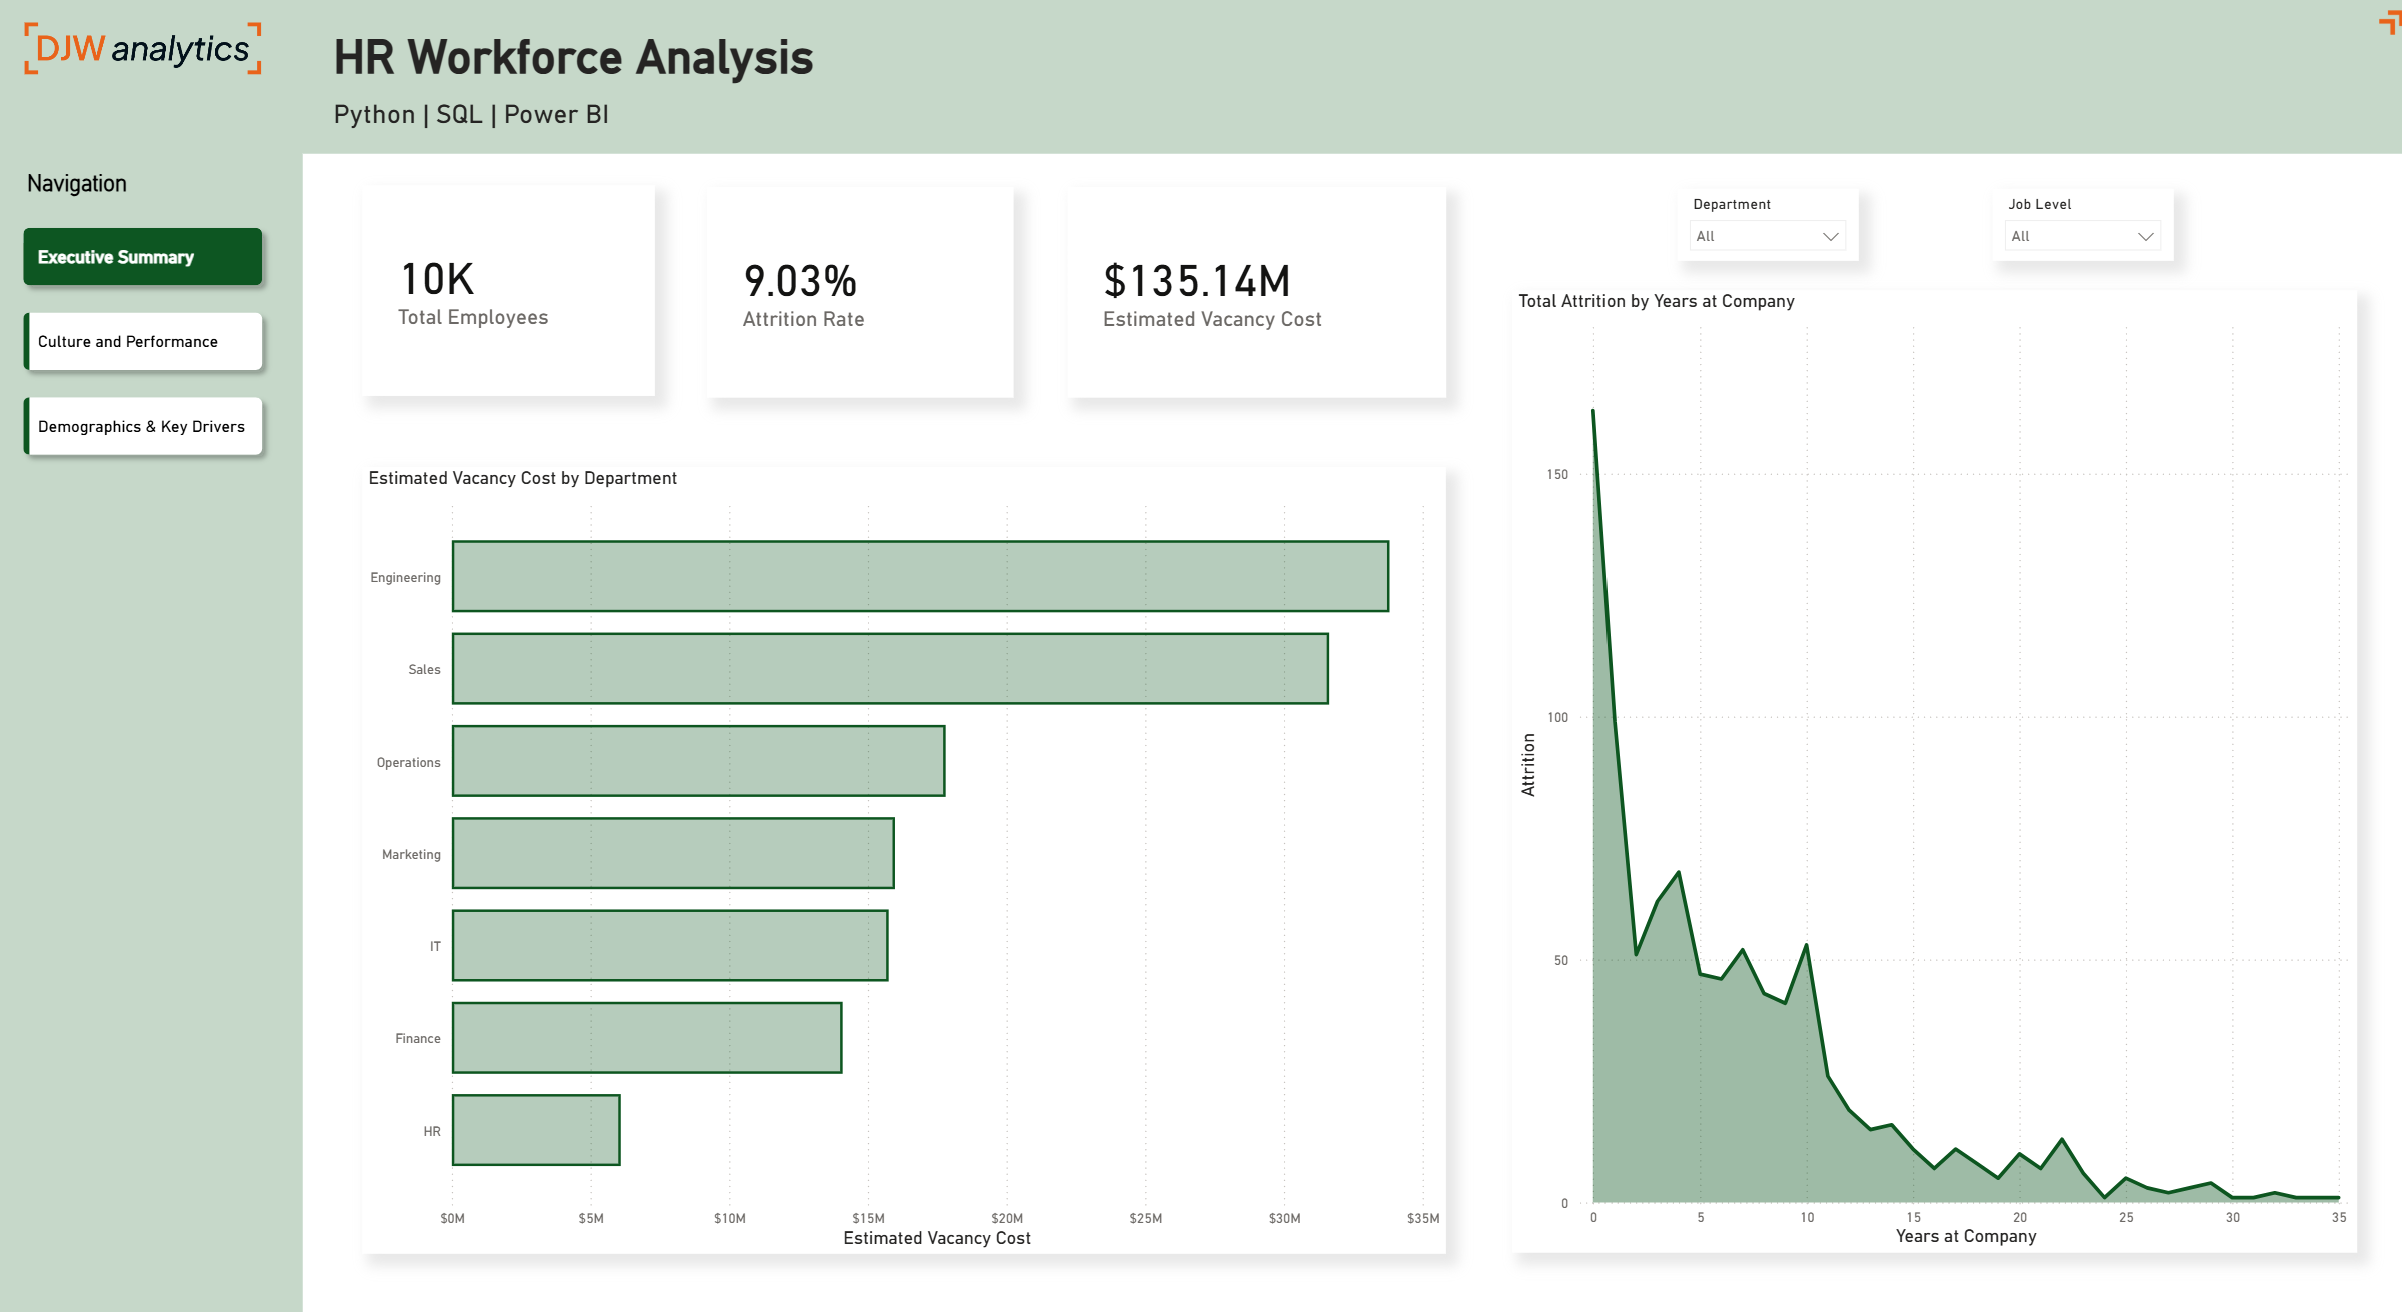

Layout of this report page (visuals, bound fields, positions):
{"tool":"powerbi","page":{"name":"Executive Summary","canvas":[1980,1080],"ordinal":0},"visuals":[{"type":"shape","box":[253.3,126.7,1726.7,953.3],"z":0},{"type":"clusteredBarChart","fields":{"Category":["public dim_department.department_name"],"Y":["_key measures.Estimated Realized Vacancy Cost"]},"box":[301.1,382.2,884.4,642.2],"z":1000},{"type":"lineChart","title":"Total Attrition by Years at Company","fields":{"Category":["public fact_employee_metrics.years_at_company"],"Y":["_key measures.Total Attrition"]},"box":[1240,238.9,688.9,785.6],"z":2000},{"type":"slicer","fields":{"Values":["public fact_employee_metrics.job_level"]},"box":[1631.1,155.6,147.8,58.9],"z":3000},{"type":"slicer","fields":{"Values":["public dim_department.department_name"]},"box":[1374.4,155.6,147.8,58.9],"z":4000},{"type":"textbox","box":[272.2,20,485.6,57.8],"z":5000},{"type":"textbox","box":[272.2,77.8,243.3,38.9],"z":6000},{"type":"image","box":[22.2,20,198.9,42.2],"z":7000},{"type":"image","box":[1947.8,6.7,20,25.6],"z":8000},{"type":"pageNavigator","box":[15.6,178.9,213.3,203.3],"z":9000},{"type":"textbox","box":[22.2,134.4,131.1,38.9],"z":10000},{"type":"cardVisual","fields":{"Data":["_key measures.Total Employees"]},"box":[301.1,152.2,238.9,172.2],"z":11000},{"type":"cardVisual","fields":{"Data":["_key measures.Attrition Rate"]},"box":[583.3,154.4,250,172.2],"z":12000},{"type":"cardVisual","fields":{"Data":["_key measures.Estimated Realized Vacancy Cost"]},"box":[876.7,154.4,308.9,172.2],"z":13000}]}

Visuals, with their boxes in screenshot pixels (x1, y1, x2, y2), scaled from the page's 1980x1080 canvas onto the 2402x1312 screenshot:
shape: 307, 154, 2401, 1311
clusteredBarChart - public dim_department.department_name x _key measures.Estimated Realized Vacancy Cost: 365, 464, 1438, 1244
"Total Attrition by Years at Company" lineChart: 1504, 290, 2340, 1245
slicer - public fact_employee_metrics.job_level: 1979, 189, 2158, 261
slicer - public dim_department.department_name: 1667, 189, 1847, 261
textbox: 330, 24, 919, 95
textbox: 330, 95, 625, 142
image: 27, 24, 268, 76
image: 2363, 8, 2387, 39
pageNavigator: 19, 217, 278, 464
textbox: 27, 163, 186, 211
cardVisual - _key measures.Total Employees: 365, 185, 655, 394
cardVisual - _key measures.Attrition Rate: 708, 188, 1011, 397
cardVisual - _key measures.Estimated Realized Vacancy Cost: 1064, 188, 1438, 397
